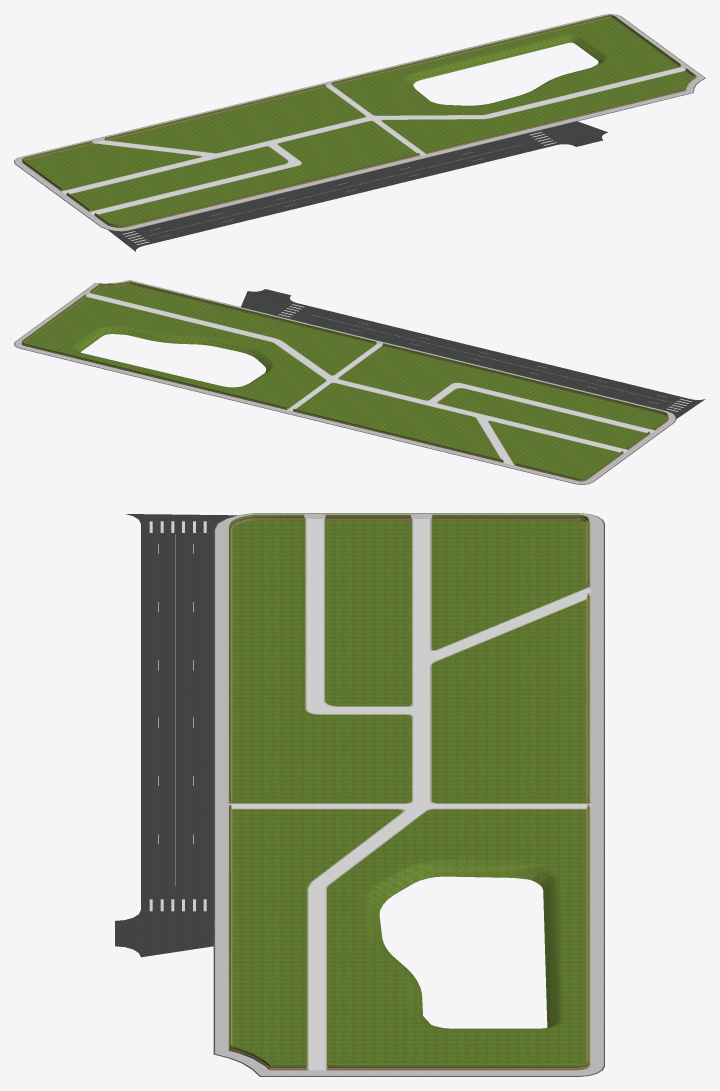
File: New_Terrain_Area_17.fbx
3 renders of one model, top to bottom at view 1: azimuth 30°, elevation 25°; view 2: azimuth 150°, elevation 25°; view 3: azimuth 270°, elevation 25°, orthographic. The views are drawn at different scales.
Visible parts, largest first — view 1: Area_17, Road_18.001, Area_17.001, Road_Alpha_56; view 2: Area_17, Road_18.001, Area_17.001, Road_Alpha_56; view 3: Area_17, Road_18.001, Area_17.001, Road_Alpha_56.
Part boxes in pixels (x1,y1,x2,y2): Area_17: (14, 14, 705, 231); Road_18.001: (108, 121, 607, 251); Area_17.001: (61, 67, 685, 215); Road_Alpha_56: (122, 132, 556, 244); Area_17: (14, 280, 676, 484); Road_18.001: (241, 289, 705, 418); Area_17.001: (86, 293, 654, 465); Road_Alpha_56: (278, 304, 691, 411); Area_17: (213, 513, 604, 1076); Road_18.001: (115, 514, 236, 957); Area_17.001: (228, 519, 590, 1070); Road_Alpha_56: (149, 521, 206, 911).
Bounding box in the file's own units: 25772 × 310 × 9471.
